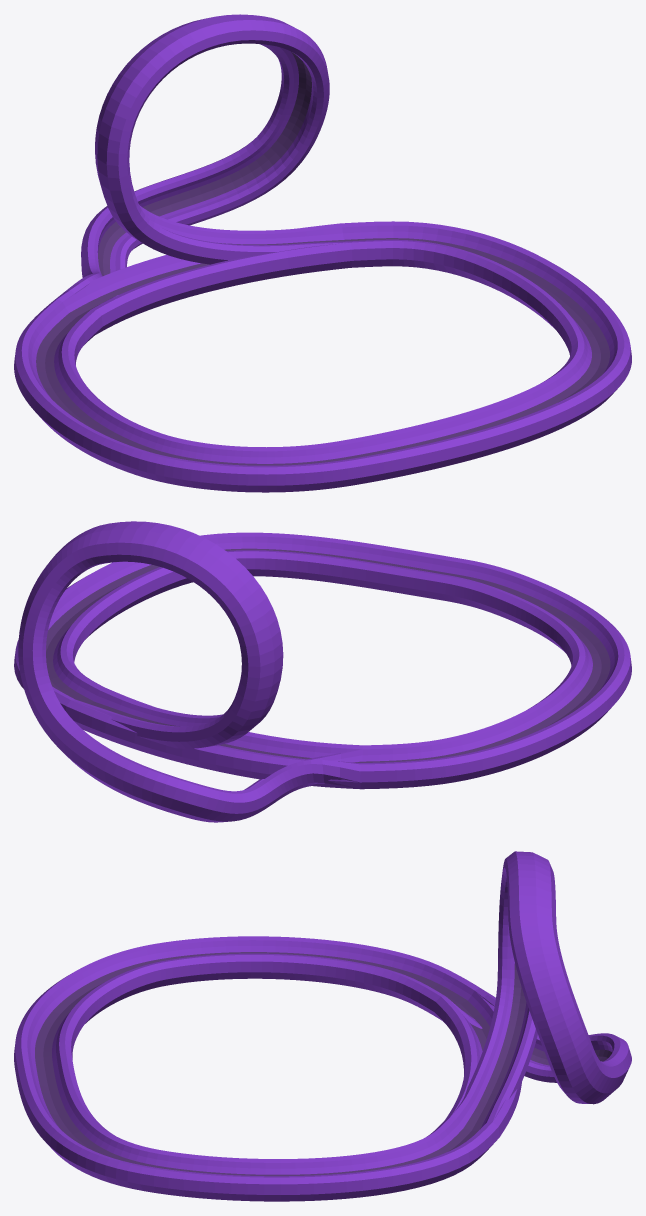
Rendered from 3_parts (3).fbx.
The picture shows the model from 3 angles, top to bottom: view 1: azimuth 30°, elevation 25°; view 2: azimuth 150°, elevation 25°; view 3: azimuth 270°, elevation 25°; orthographic projection. The views are drawn at different scales.
Visible parts, largest first — view 1: mainpart.002, mainpart.001, part2.002; view 2: mainpart.002, mainpart.001, part2.002; view 3: mainpart.002, mainpart.001, part2.002.
Part boxes in pixels (x1,y1,x2,y2): mainpart.002: [14, 221, 631, 492]; mainpart.001: [53, 14, 350, 313]; part2.002: [63, 224, 352, 334]; mainpart.002: [14, 532, 631, 789]; mainpart.001: [18, 521, 362, 822]; part2.002: [66, 688, 362, 789]; mainpart.002: [14, 936, 499, 1201]; mainpart.001: [447, 851, 631, 1130]; part2.002: [434, 990, 521, 1136].
Size of the model in its own units: 977 by 469 by 1031.
